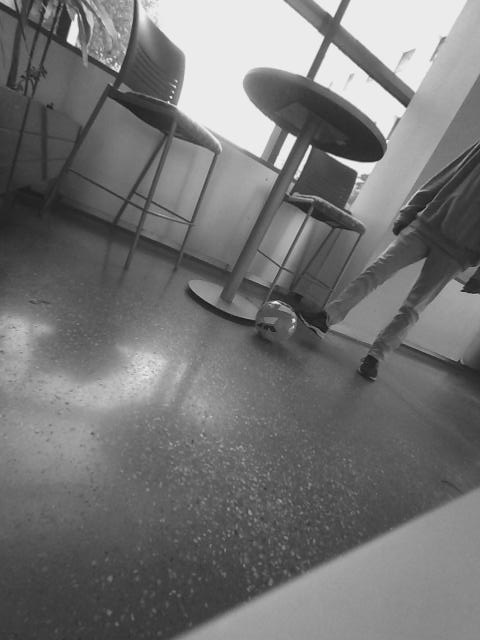ball: (245, 254, 297, 307)
